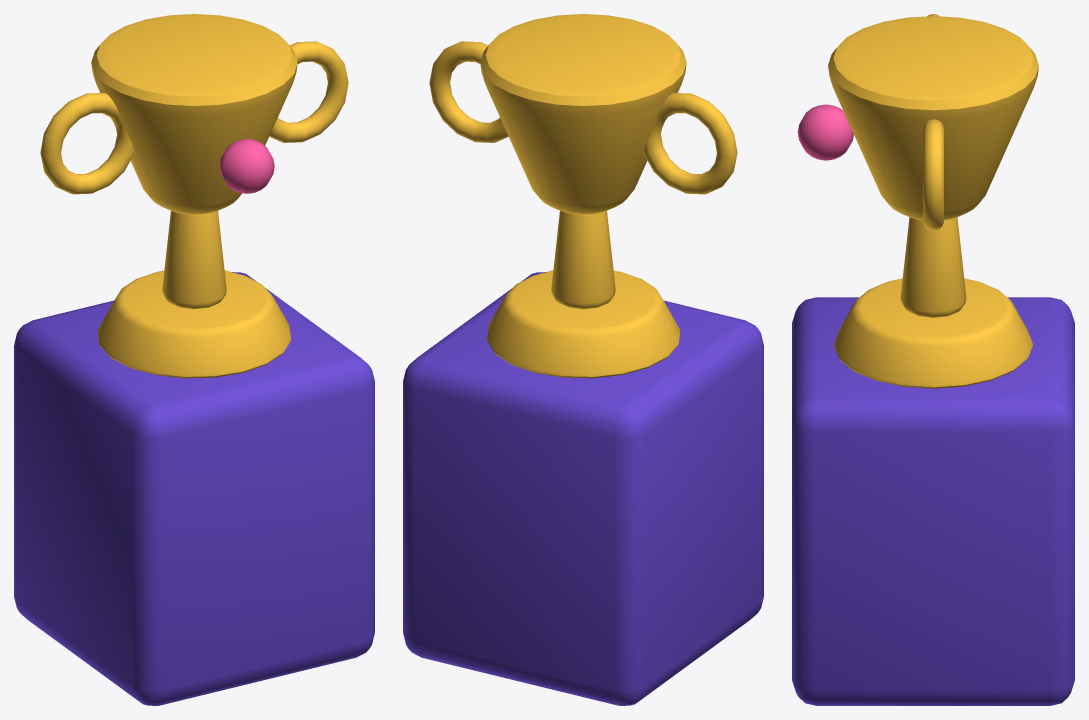
Rendered from object-race-trophy.glb.
3 renders of one model, left to right at view 1: azimuth 30°, elevation 25°; view 2: azimuth 150°, elevation 25°; view 3: azimuth 270°, elevation 25°, orthographic. The views are drawn at different scales.
Visible parts, largest first — view 1: Node_0-mesh, part-cup-mesh; view 2: Node_0-mesh, part-cup-mesh; view 3: Node_0-mesh, part-cup-mesh.
Part boxes in pixels (left/top/right/bottom): Node_0-mesh: left=14, top=272, right=374, bottom=705; part-cup-mesh: left=40, top=14, right=348, bottom=378; Node_0-mesh: left=403, top=272, right=763, bottom=705; part-cup-mesh: left=429, top=14, right=737, bottom=378; Node_0-mesh: left=792, top=297, right=1074, bottom=705; part-cup-mesh: left=797, top=14, right=1038, bottom=388.
Bounding box in the file's own units: 0.6373 × 1.17 × 0.5.
